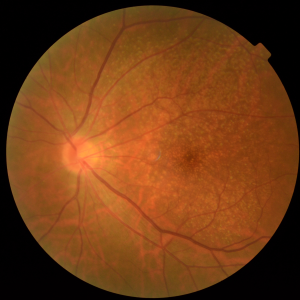retina_disease: (27, 104, 224, 207)
